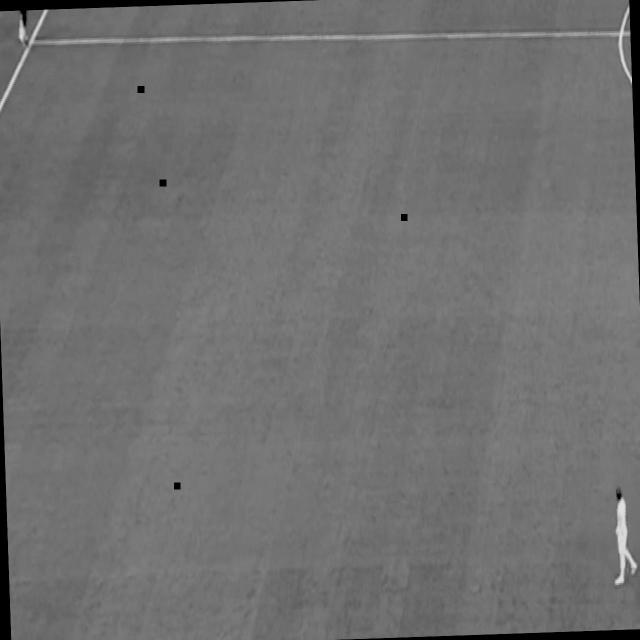player-white: (611, 486, 639, 585), (16, 10, 30, 46)
